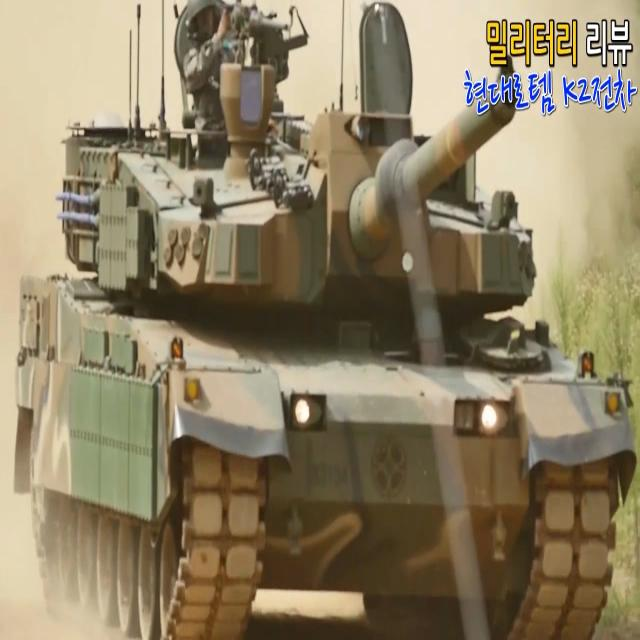korea tank: (15, 1, 638, 640)
